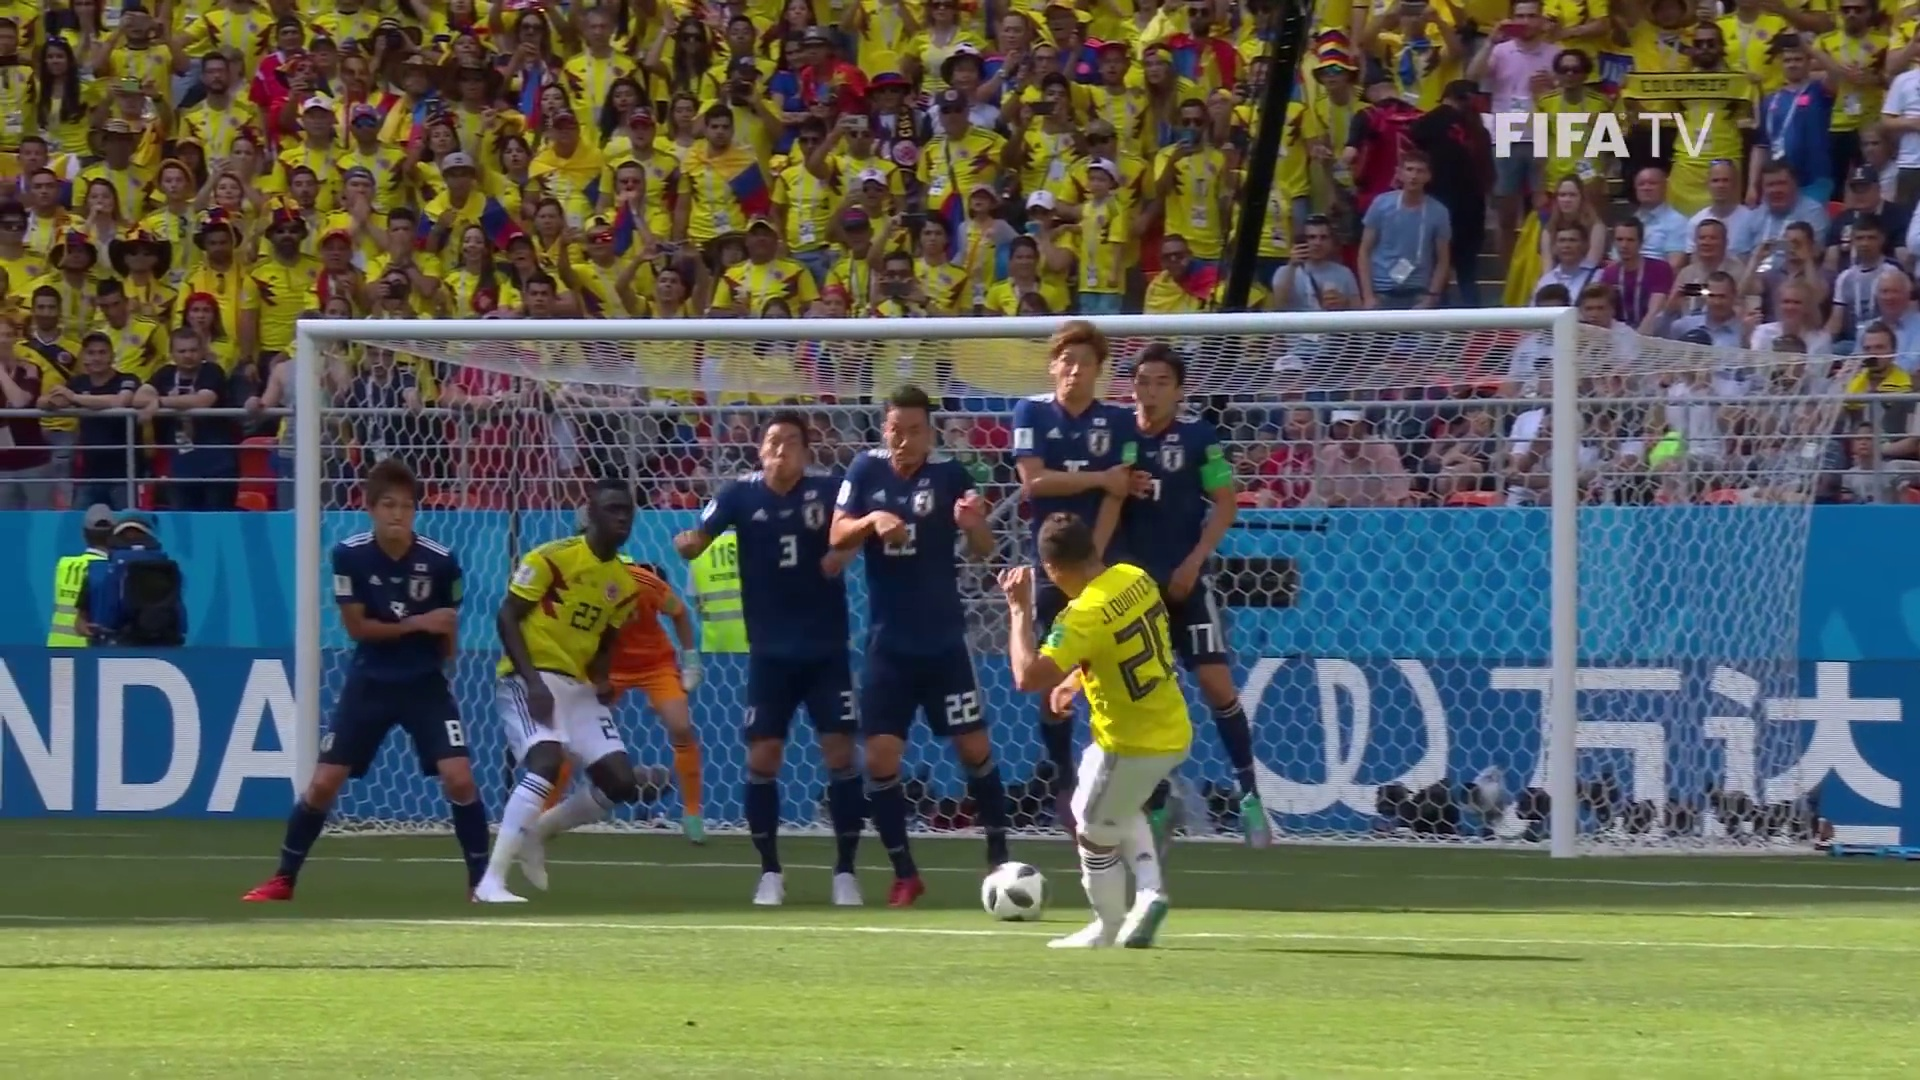ball: (979, 857, 1044, 923)
person: (834, 394, 1022, 904), (691, 421, 867, 908), (299, 484, 499, 906), (1016, 506, 1201, 947), (1128, 339, 1281, 853), (510, 488, 636, 906), (1007, 333, 1128, 565)
